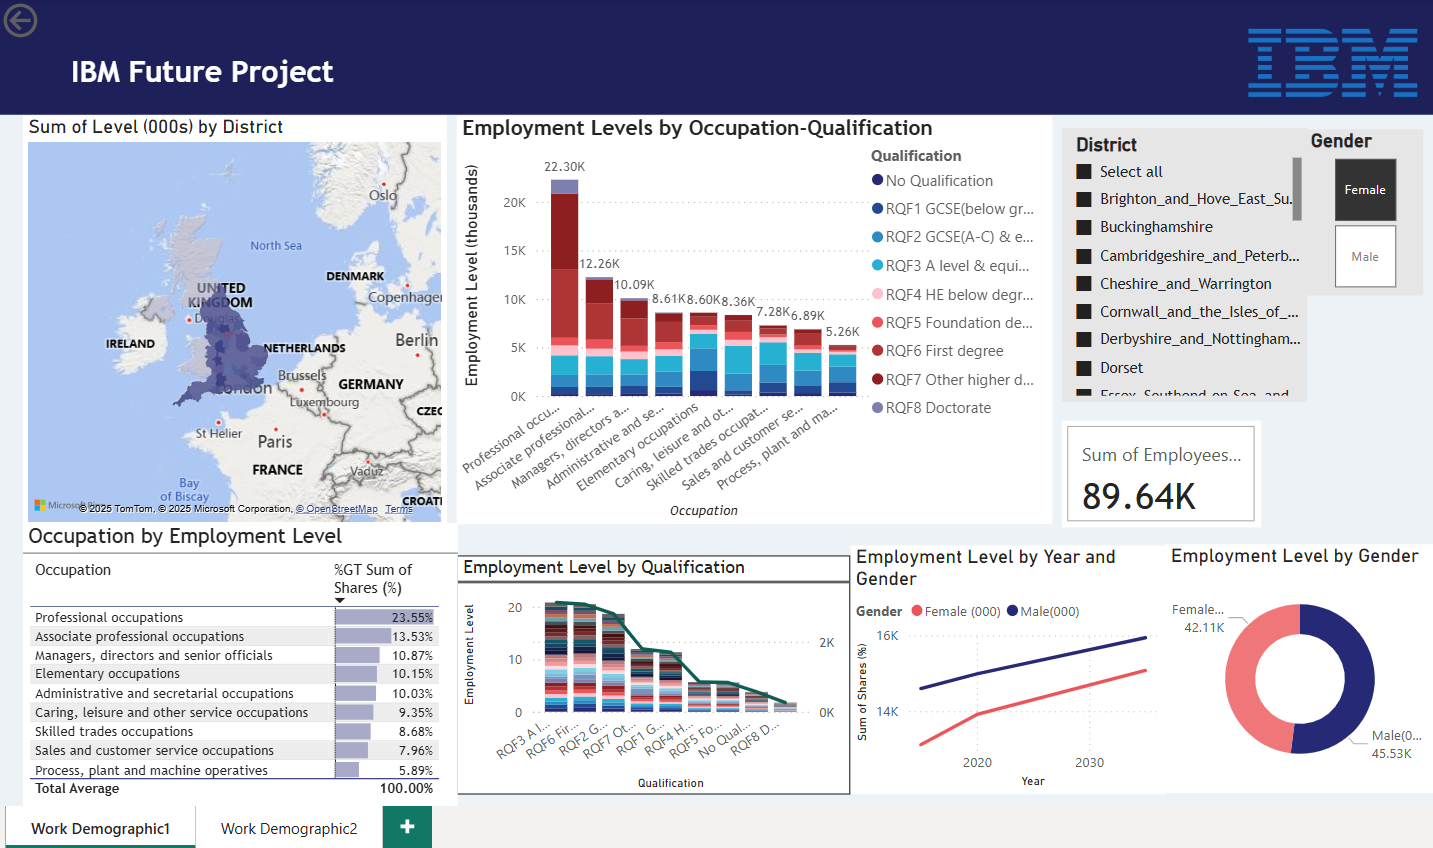

What the dashboard file says about the page in this screenshot:
{"tool":"powerbi","page":{"name":"Work Demographic1","canvas":[1280,720],"ordinal":0},"visuals":[{"type":"shape","box":[0,0,1280,103.8],"z":0},{"type":"slicer","fields":{"Values":["Unique_Districts.District"]},"box":[947.1,115.8,218.4,243.7],"z":1000},{"type":"slicer","title":"Gender","fields":{"Values":["Unique_Genders.Gender"]},"box":[1164.9,116.8,104.5,148],"z":2000},{"type":"actionButton","box":[0,0,100,40],"z":3000},{"type":"filledMap","fields":{"Category":["Occ_T5_LSIPs (2).District"]},"box":[21.7,104.5,377.4,366.6],"z":4000},{"type":"image","box":[1108.7,12.1,160.5,91.7],"z":5000},{"type":"textbox","box":[60.3,45.8,457.2,70],"z":6000},{"type":"columnChart","title":"Employment Levels by Occupation-Qualification","fields":{"Category":["Basic_T1 (2).Occupation"],"Series":["Basic_T1 (2).Qualification"],"Y":["Sum(Basic_T1 (2).Employees (000s))"]},"box":[408.8,105,530,363.8],"z":7000},{"type":"cardVisual","fields":{"Data":["Sum(Basic_T1 (2).Employees (000s))"]},"box":[947.1,376.4,177.3,95.3],"z":8000},{"type":"lineChart","title":"Employment Level by Year and Gender","fields":{"Category":["Ind_Occ_T1_LSIPs.Year"],"Y":["Sum(Ind_Occ_T1_LSIPs.Shares (%))"],"Series":["Ind_Occ_T1_LSIPs.Gender"]},"box":[758.9,487.4,281,221.3],"z":9000},{"type":"lineStackedColumnComboChart","title":"Employment Level by Qualification","fields":{"Y":["Sum(Qual_T1_LSIPs.Share (%))"],"Category":["Qual_T1_LSIPs.Qualification"],"Y2":["Avg(Qual_T1_LSIPs.Share (%))"],"Series":["Qual_T1_LSIPs.District"]},"box":[408.8,496.2,350,212.5],"z":10000},{"type":"donutChart","title":"Employment Level by Gender","fields":{"Category":["Ind_Occ_T1_LSIPs.Gender"],"Y":["Sum(Ind_Occ_T1_LSIPs.Shares (%))"]},"box":[1040,486.2,240,221.2],"z":11000},{"type":"tableEx","title":"Occupation by Employment Level ","fields":{"Values":["Ind_Occ_T1_LSIPs.Occupation","Sum(Ind_Occ_T1_LSIPs.Shares (%))"]},"box":[21.7,467,386.9,252.5],"z":12000}]}

Visuals, with their boxes on the page's 1280x720 design canvas (x1, y1, x2, y2). These are canvas units, not pixel positions in the 1433x848 screenshot, which may show the page scaled, cropped or inside an application window:
shape: box=[0, 0, 1280, 104]
slicer - Unique_Districts.District: box=[947, 116, 1166, 360]
"Gender" slicer: box=[1165, 117, 1269, 265]
actionButton: box=[0, 0, 100, 40]
filledMap - Occ_T5_LSIPs (2).District: box=[22, 104, 399, 471]
image: box=[1109, 12, 1269, 104]
textbox: box=[60, 46, 518, 116]
"Employment Levels by Occupation-Qualification" columnChart: box=[409, 105, 939, 469]
cardVisual - Sum(Basic_T1 (2).Employees (000s)): box=[947, 376, 1124, 472]
"Employment Level by Year and Gender" lineChart: box=[759, 487, 1040, 709]
"Employment Level by Qualification" lineStackedColumnComboChart: box=[409, 496, 759, 709]
"Employment Level by Gender" donutChart: box=[1040, 486, 1280, 707]
"Occupation by Employment Level " tableEx: box=[22, 467, 409, 720]
